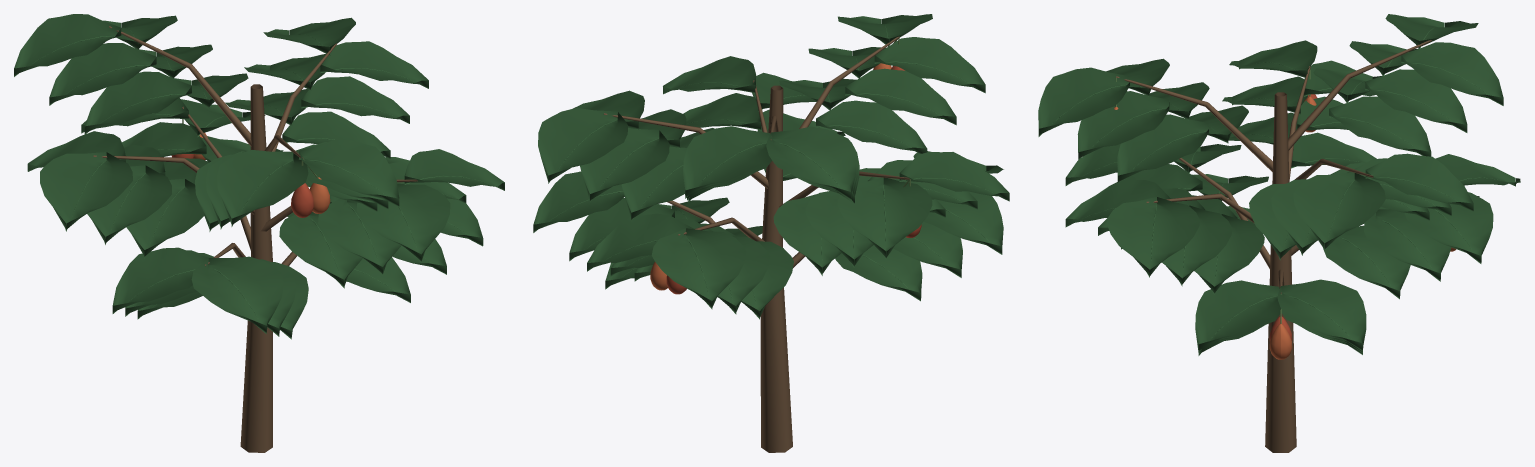
File: tomate_de_arbol.glb
3 renders of one model, left to right at view 1: azimuth 30°, elevation 25°; view 2: azimuth 150°, elevation 25°; view 3: azimuth 270°, elevation 25°, orthographic. The views are drawn at different scales.
Visible parts, largest first — view 1: tomate_de_arbol; view 2: tomate_de_arbol; view 3: tomate_de_arbol.
Boxes of the visible parts, bbox=[...] form: tomate_de_arbol: bbox=[14, 14, 504, 452]; tomate_de_arbol: bbox=[533, 14, 1009, 452]; tomate_de_arbol: bbox=[1038, 14, 1520, 452].
Bounding box in the file's own units: 1.97 × 1.72 × 1.98.
